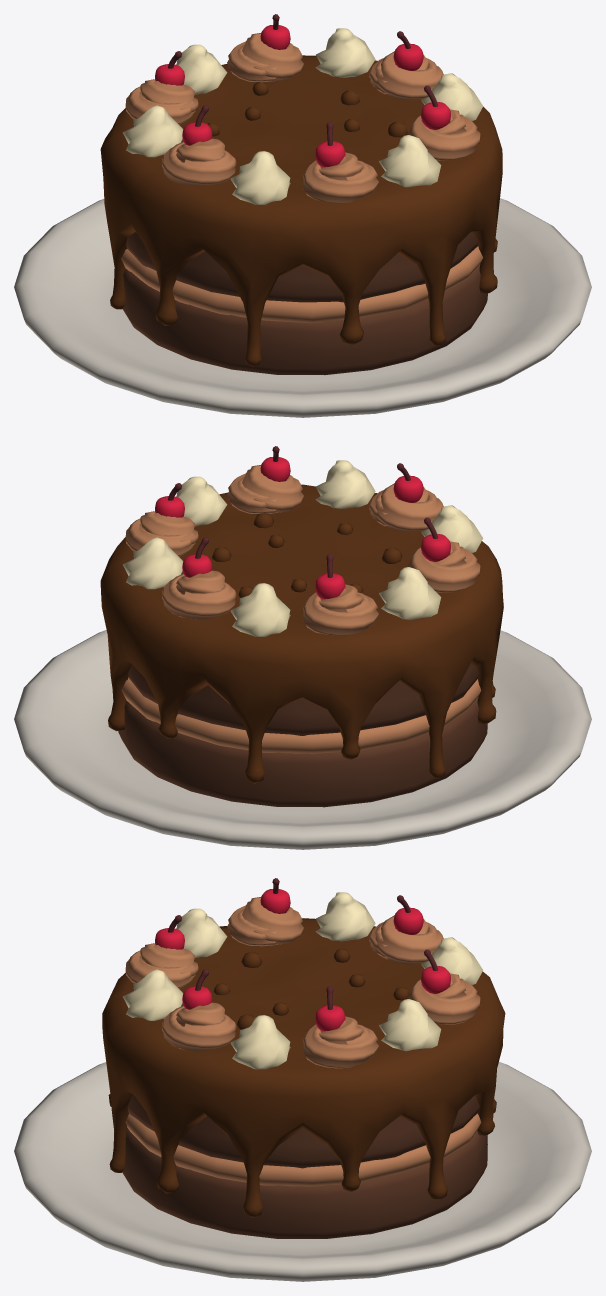
File: bolo.glb
The picture shows the model from 3 angles, top to bottom: view 1: azimuth 30°, elevation 25°; view 2: azimuth 150°, elevation 25°; view 3: azimuth 270°, elevation 25°; orthographic projection.
Visible parts, largest first — view 1: Cake; view 2: Cake; view 3: Cake.
Boxes of the visible parts, x1,y1,x2,y2 form: Cake: (14, 14, 591, 417); Cake: (14, 446, 591, 849); Cake: (14, 878, 591, 1281).
Bounding box in the file's own units: 0.8483 × 0.412 × 0.8483.
1 material, 1 textured.
